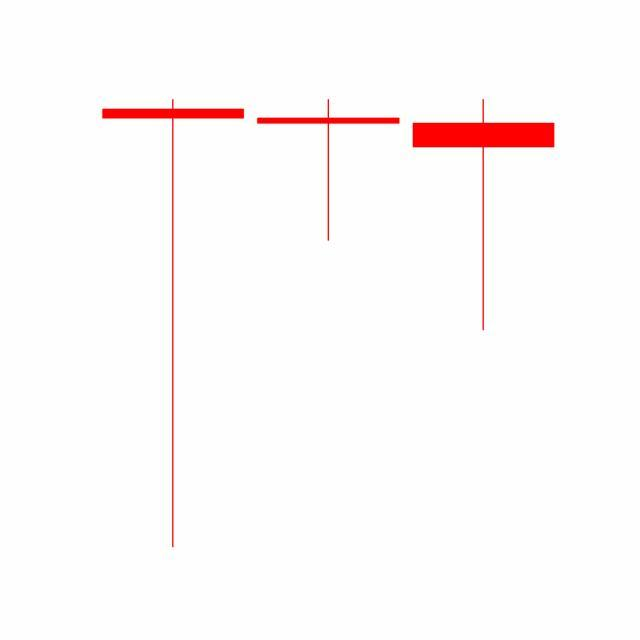Dragonfly Doji: (250, 98, 407, 243)
